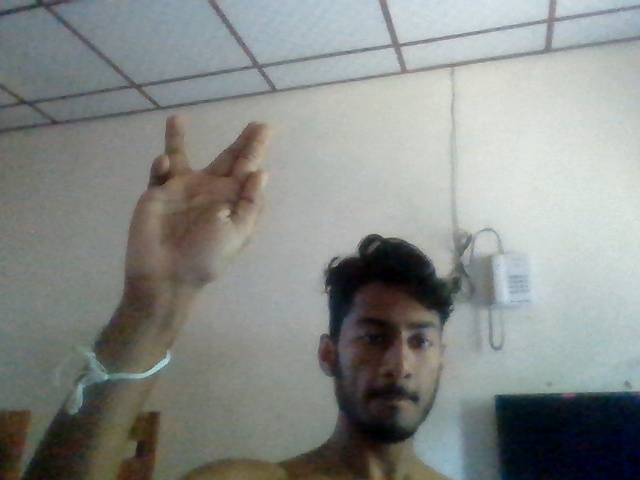LiveLong: (126, 113, 270, 284)
